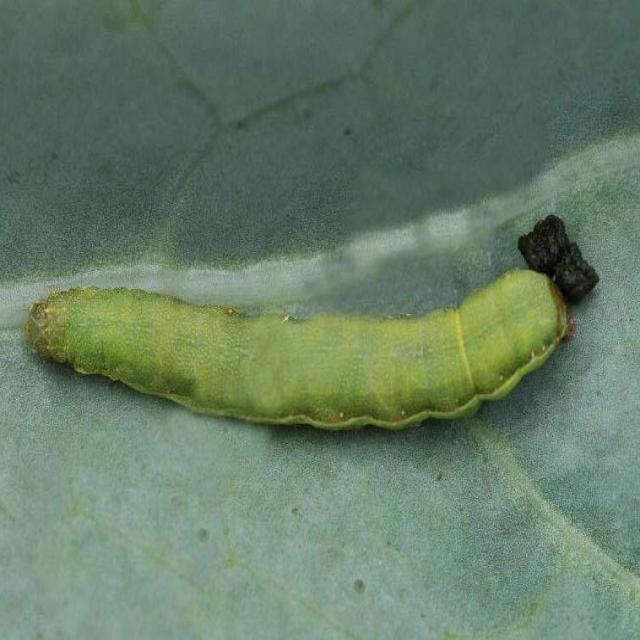BeetArmyWorm-Larva-: (21, 259, 571, 447)
